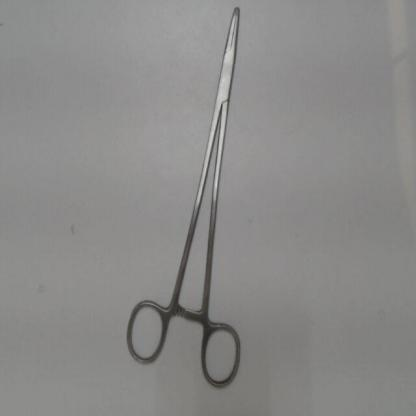8 Mayo Needle Holder: (119, 2, 250, 396)
